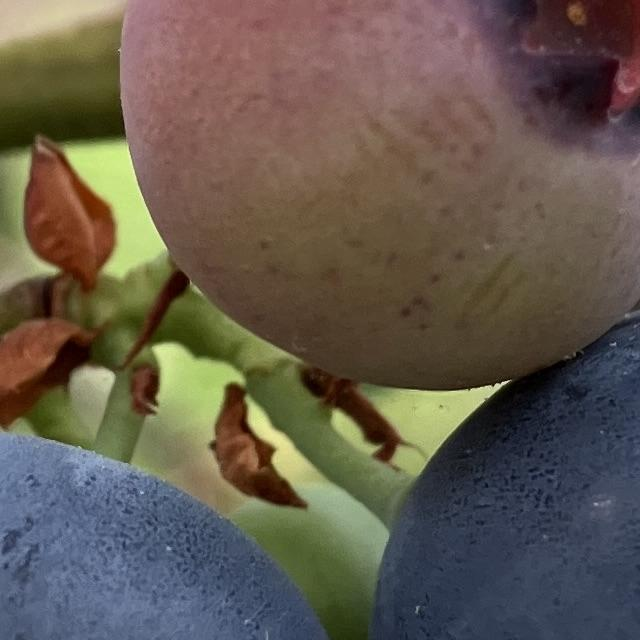Blueberries: (114, 0, 640, 389), (360, 287, 640, 640)
